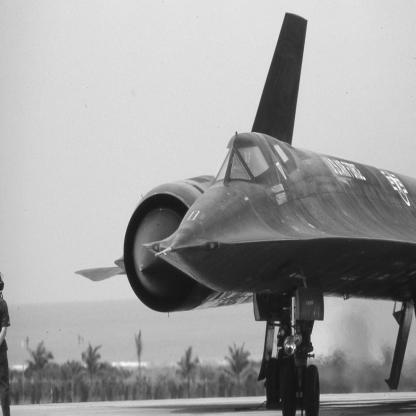SR71: (76, 13, 416, 416)
